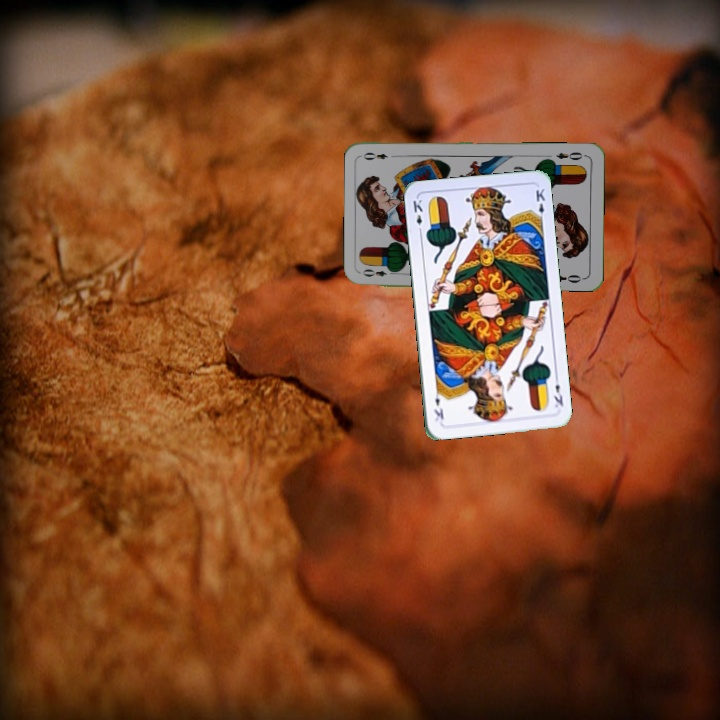EK: (409, 195, 425, 236), (550, 372, 566, 410)
EO: (359, 265, 398, 279), (552, 148, 588, 162)
